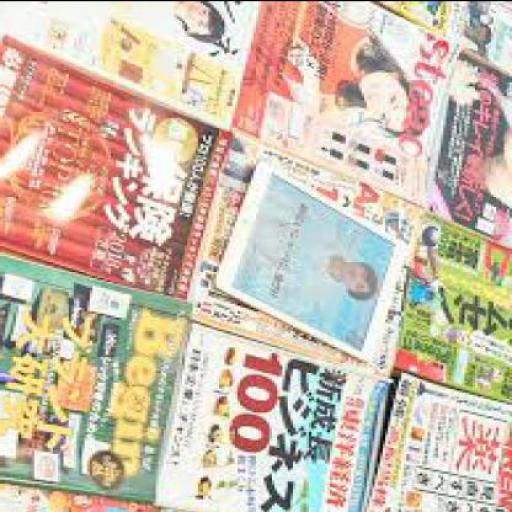paper: (2, 30, 238, 294), (190, 127, 430, 368), (3, 250, 195, 506), (218, 0, 464, 198), (158, 321, 402, 510), (216, 162, 414, 356), (2, 1, 266, 129), (401, 204, 511, 400), (367, 369, 511, 511), (430, 44, 510, 246)
